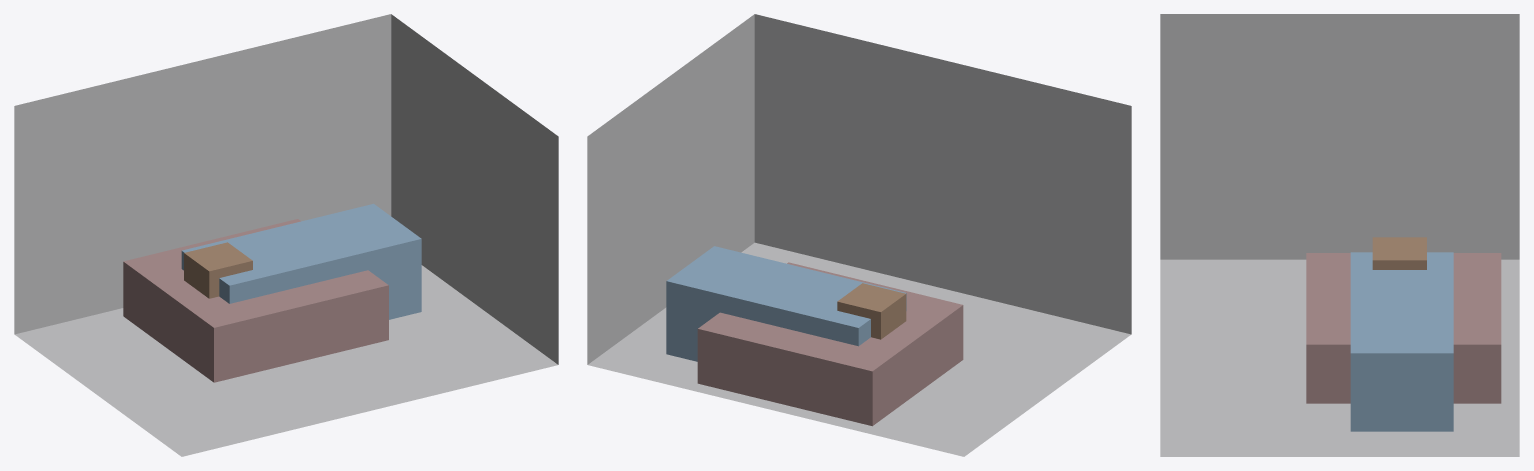
File: optimised_layout.glb
3 renders of one model, left to right at view 1: azimuth 30°, elevation 25°; view 2: azimuth 150°, elevation 25°; view 3: azimuth 270°, elevation 25°, orthographic. The views are drawn at different scales.
Visible parts, largest first — view 1: room, bed, couch, chair; view 2: room, bed, couch, chair; view 3: room, couch, bed, chair.
Part boxes in pixels (x1,y1,x2,y2): room: (14, 14, 558, 456); bed: (123, 219, 388, 382); couch: (181, 203, 421, 319); chair: (184, 242, 252, 298); room: (587, 14, 1131, 456); bed: (697, 262, 963, 426); couch: (666, 246, 906, 361); chair: (837, 283, 906, 339); room: (1160, 14, 1519, 456); couch: (1350, 252, 1453, 431); bed: (1306, 253, 1501, 403); chair: (1372, 237, 1426, 269).
Bounding box in the file's own units: 4.31 × 2.5 × 3.32.
